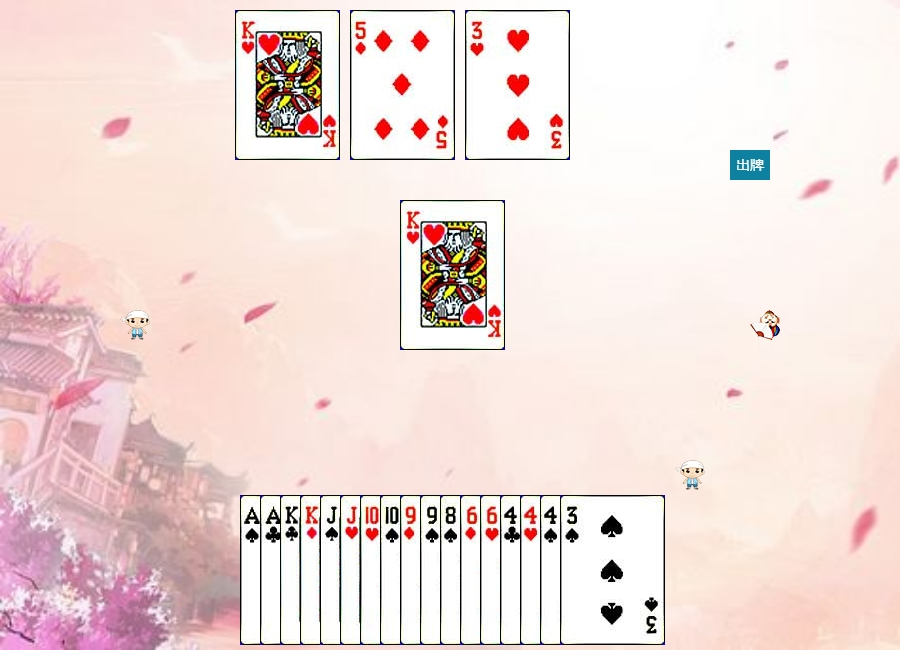10~3: (360, 495, 465, 645)
10~4: (380, 495, 485, 645)
11~3: (340, 495, 445, 645)
11~4: (320, 495, 425, 645)
13~1: (300, 495, 405, 645)
13~2: (280, 495, 385, 645)
13~3: (235, 10, 340, 160), (400, 200, 505, 350)
14~2: (260, 495, 365, 645)
14~4: (240, 495, 345, 645)
3~3: (465, 10, 570, 160)
3~4: (560, 495, 665, 645)
4~2: (500, 495, 605, 645)
4~3: (520, 495, 625, 645)
4~4: (540, 495, 645, 645)
5~1: (350, 10, 455, 160)
6~1: (460, 495, 565, 645)
6~3: (480, 495, 585, 645)
8~4: (440, 495, 545, 645)
9~1: (400, 495, 505, 645)
9~4: (420, 495, 525, 645)
